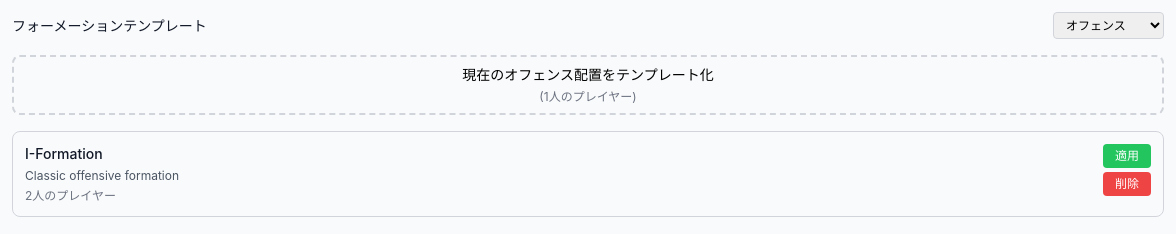
FormationTemplateManager Component › 初期レンダリング › フォーメーションタイプセレクトが正しく動作すること
Select "ディフェンス" in the dropdown. click: (1108, 26)
box: [1053,12,1164,39]
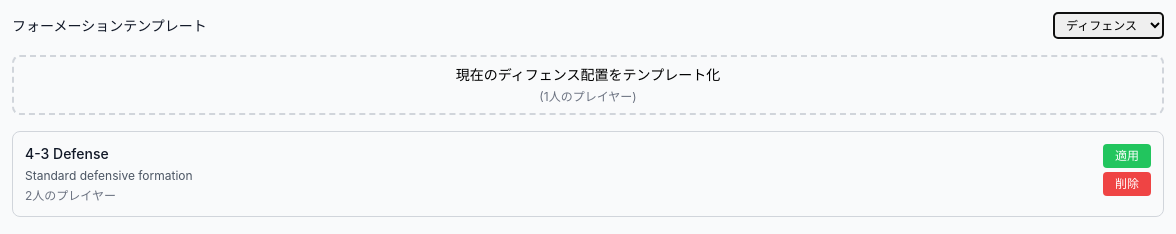
Check: the heading "4-3 Defense" is shown, box [25,145,109,162]
Check: the text "Standard defensive formation" is shown, box [25,168,193,183]
Check: the heading "I-Formation" is gone
